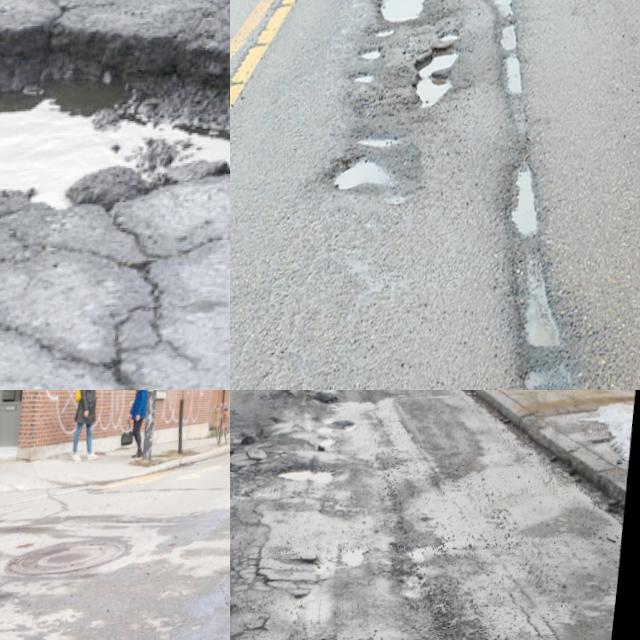Potholes: (0, 0, 230, 275), (467, 132, 639, 390), (230, 541, 433, 640), (313, 113, 446, 260), (230, 431, 366, 538), (455, 0, 560, 125), (361, 0, 452, 61), (254, 390, 393, 420)
